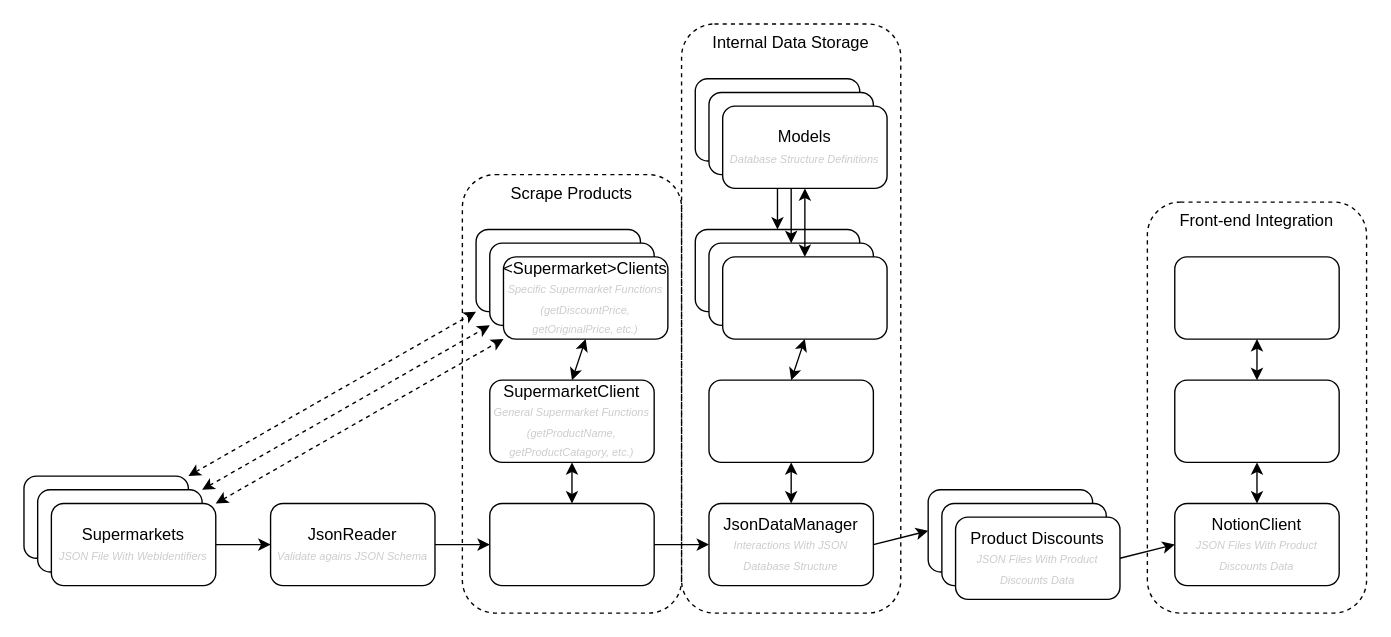
The diagram is 1391 pixels wide and 637 high, and some of its shapes have lost their labels. Each missing label, with the centre of its shape:
"Controllers Interactions With Database Functions" goes at point (804, 297).
"JsonDataContext General Data Functions" goes at point (790, 420).
"Models Notion Structure Definitions" goes at point (1256, 297).
"NotionManager Manages & Converts Datastructures" goes at point (1256, 420).
"WebClient General Web Functions (open, navigate, etc.)" goes at point (571, 544).
